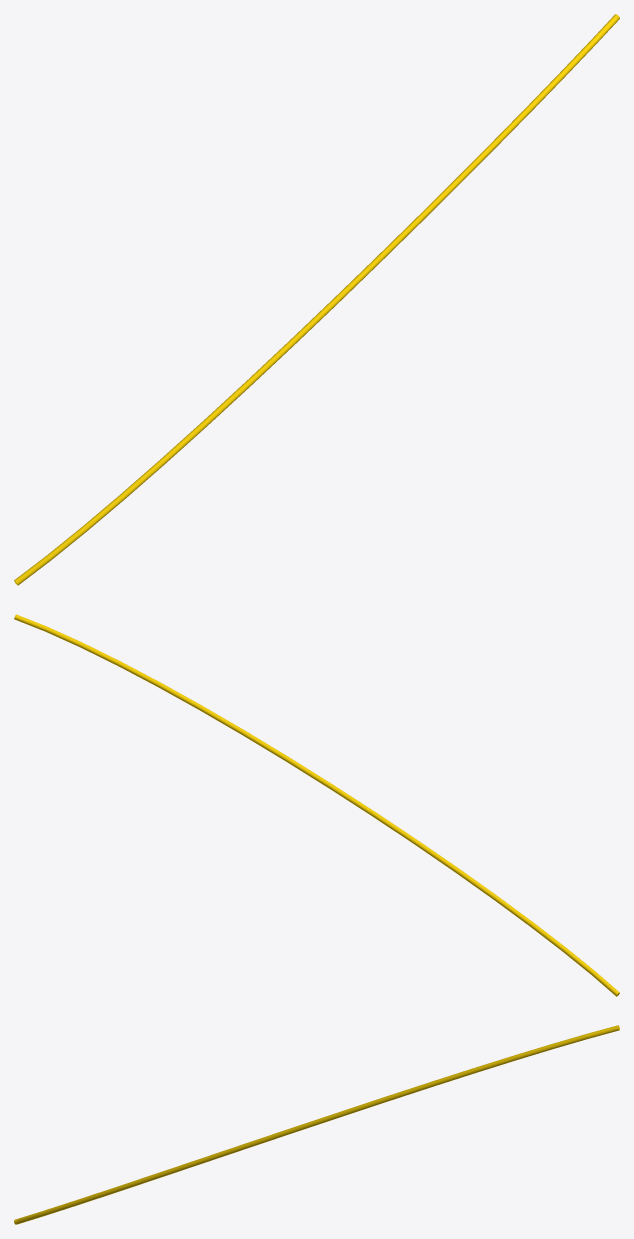
The model's file is Event_421115418_track_13.fbx.
3 renders of one model, top to bottom at view 1: azimuth 30°, elevation 25°; view 2: azimuth 150°, elevation 25°; view 3: azimuth 330°, elevation 25°, orthographic. The views are drawn at different scales.
Visible parts, largest first — view 1: Model; view 2: Model; view 3: Model.
Boxes of the visible parts, left/top/right/bottom form: Model: left=14, top=14, right=619, bottom=585; Model: left=14, top=614, right=619, bottom=996; Model: left=14, top=1025, right=619, bottom=1224.
Bounding box in the file's own units: 4.69 × 2.37 × 0.8927.
